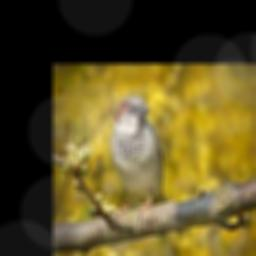Sparrow: (111, 95, 169, 212)
